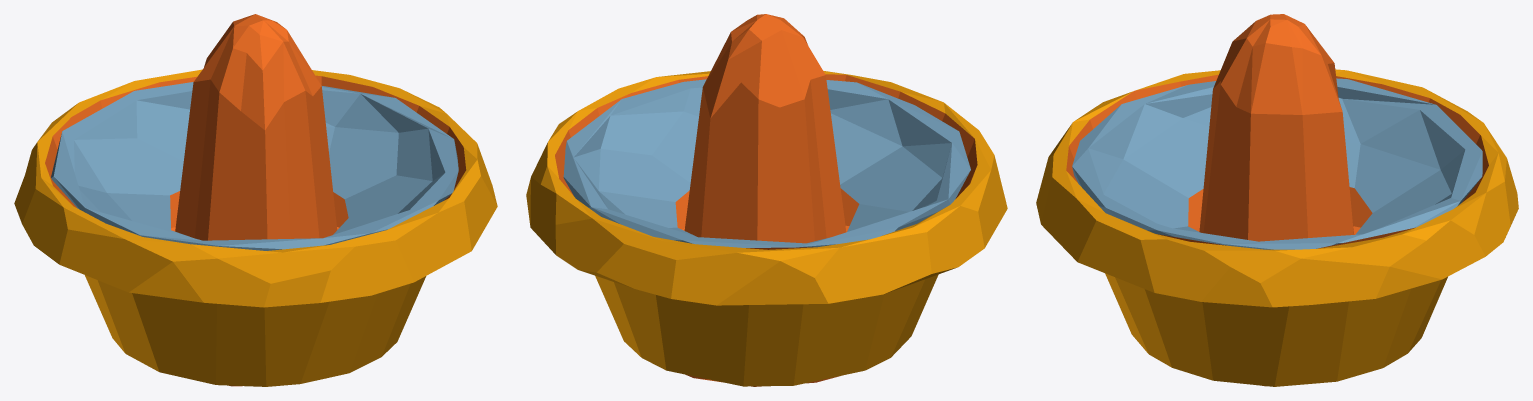
File: LemonSqueezer.fbx
The picture shows the model from 3 angles, left to right: view 1: azimuth 30°, elevation 25°; view 2: azimuth 150°, elevation 25°; view 3: azimuth 270°, elevation 25°; orthographic projection.
Parts seen in each view (by area): view 1: LemonSqueezerLowPoly, LemonSqueezer_PartLowPoly; view 2: LemonSqueezerLowPoly, LemonSqueezer_PartLowPoly; view 3: LemonSqueezerLowPoly, LemonSqueezer_PartLowPoly.
Boxes of the visible parts, x1=… form: LemonSqueezerLowPoly: x1=14, y1=14, x2=497, y2=386; LemonSqueezer_PartLowPoly: x1=51, y1=82, x2=458, y2=250; LemonSqueezerLowPoly: x1=526, y1=14, x2=1007, y2=386; LemonSqueezer_PartLowPoly: x1=563, y1=79, x2=970, y2=247; LemonSqueezerLowPoly: x1=1036, y1=14, x2=1518, y2=386; LemonSqueezer_PartLowPoly: x1=1072, y1=78, x2=1482, y2=249.
Bounding box in the file's own units: 13.91 × 10 × 13.98.
